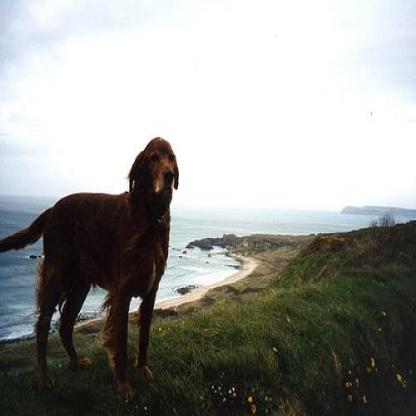Irish_setter: (0, 133, 179, 403)
